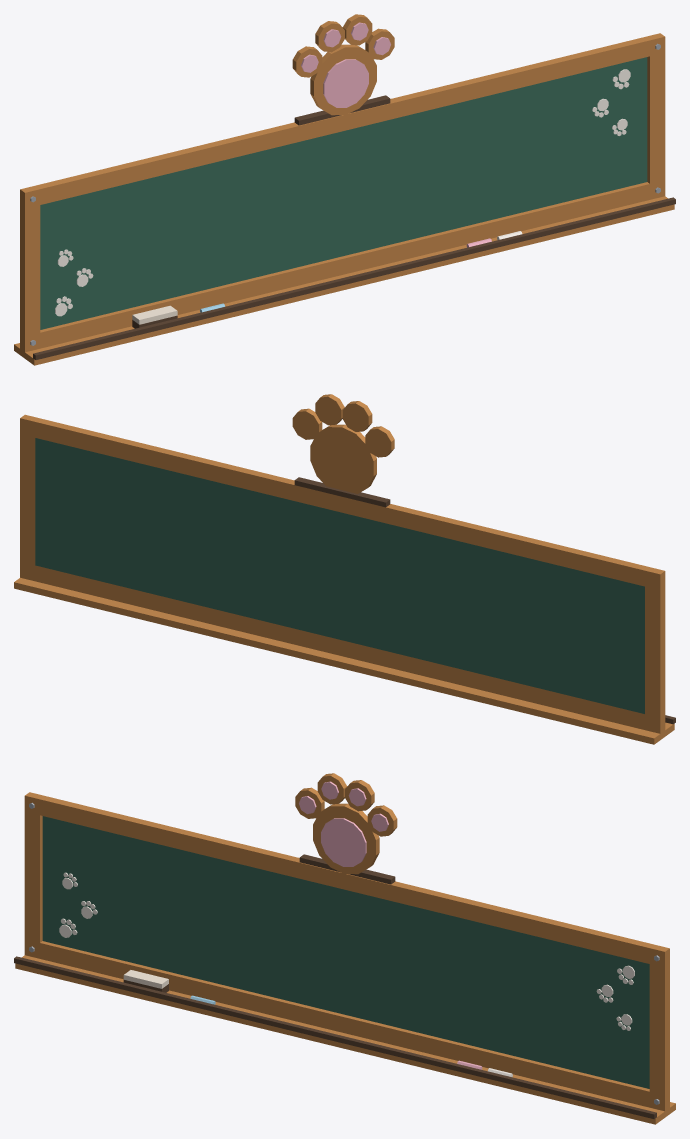
The model's file is CatCafe_Plot_SignPawChalkboard.glb.
The picture shows the model from 3 angles, top to bottom: view 1: azimuth 30°, elevation 25°; view 2: azimuth 150°, elevation 25°; view 3: azimuth 330°, elevation 25°; orthographic projection.
Visible parts, largest first — view 1: CatCafe_Plot_SignPawChalkboard_SignBoard, CatCafe_Plot_SignPawChalkboard_Frame, CatCafe_Plot_SignPawChalkboard; view 2: CatCafe_Plot_SignPawChalkboard_SignBoard, CatCafe_Plot_SignPawChalkboard_Frame, CatCafe_Plot_SignPawChalkboard; view 3: CatCafe_Plot_SignPawChalkboard_SignBoard, CatCafe_Plot_SignPawChalkboard_Frame, CatCafe_Plot_SignPawChalkboard.
Part boxes in pixels (x1=…): CatCafe_Plot_SignPawChalkboard_SignBoard: x1=40, y1=57, x2=647, y2=329; CatCafe_Plot_SignPawChalkboard_Frame: x1=20, y1=33, x2=665, y2=352; CatCafe_Plot_SignPawChalkboard: x1=14, y1=14, x2=675, y2=365; CatCafe_Plot_SignPawChalkboard_SignBoard: x1=35, y1=438, x2=644, y2=713; CatCafe_Plot_SignPawChalkboard_Frame: x1=20, y1=414, x2=665, y2=733; CatCafe_Plot_SignPawChalkboard: x1=14, y1=394, x2=675, y2=744; CatCafe_Plot_SignPawChalkboard_SignBoard: x1=42, y1=816, x2=649, y2=1088; CatCafe_Plot_SignPawChalkboard_Frame: x1=24, y1=792, x2=669, y2=1111; CatCafe_Plot_SignPawChalkboard: x1=14, y1=773, x2=675, y2=1124.
Size of the model in its own units: 16.8 by 6.54 by 0.99.
1 material, 1 textured.
